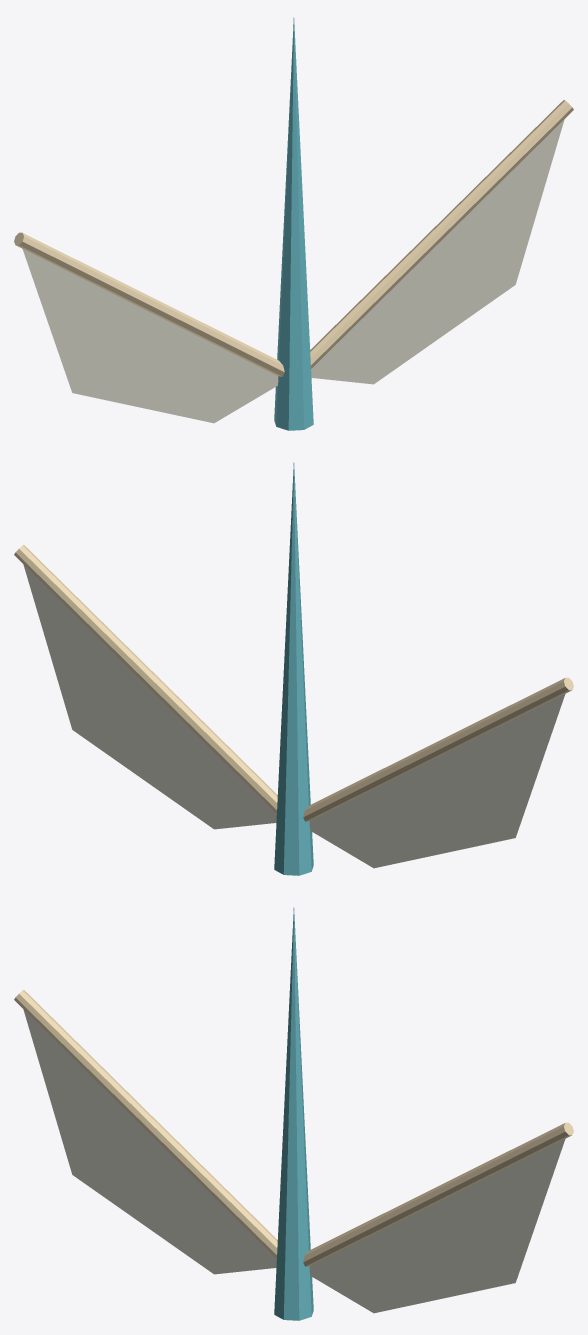
Rendered from architecture.glb.
3 renders of one model, top to bottom at view 1: azimuth 30°, elevation 25°; view 2: azimuth 150°, elevation 25°; view 3: azimuth 330°, elevation 25°, orthographic.
Parts seen in each view (by area): view 1: aery roof silhouette; view 2: aery roof silhouette; view 3: aery roof silhouette.
Part boxes in pixels (x1,y1,x2,y2): aery roof silhouette: (14,18,573,430); aery roof silhouette: (14,463,573,875); aery roof silhouette: (14,908,573,1320).
Bounding box in the file's own units: 3.14 × 2.2 × 0.2.
